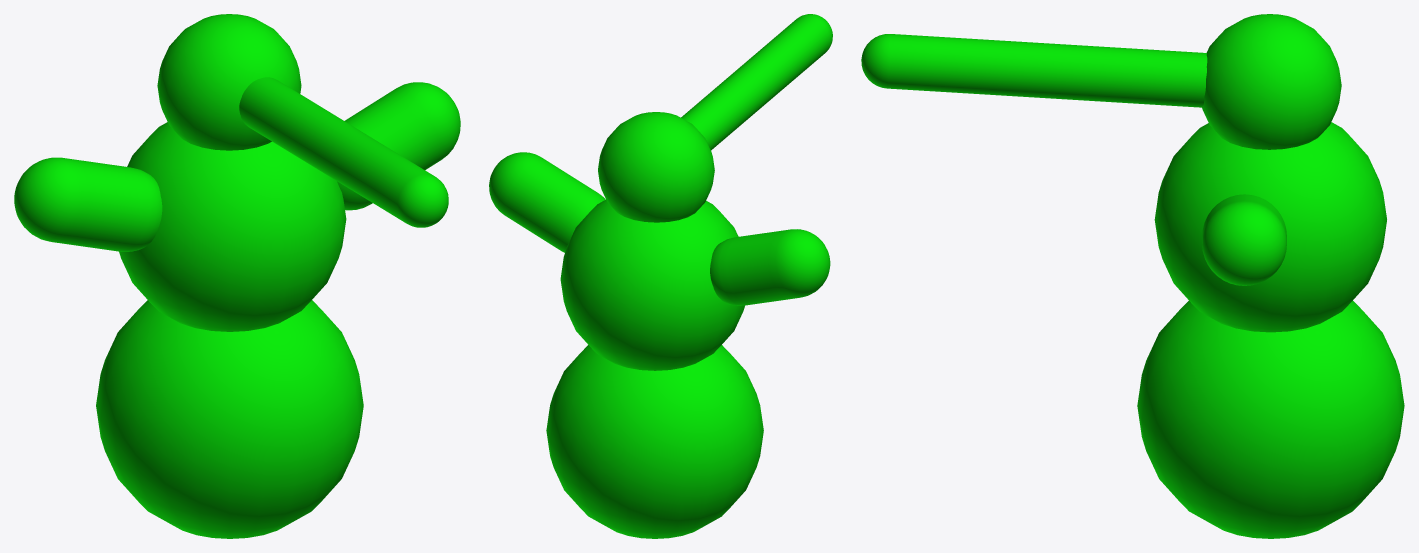
The model's file is player1_primitive.fbx.
The picture shows the model from 3 angles, left to right: view 1: azimuth 30°, elevation 25°; view 2: azimuth 150°, elevation 25°; view 3: azimuth 270°, elevation 25°; orthographic projection. The views are drawn at different scales.
Visible parts, largest first — view 1: Sphere_3, Sphere_2, Sphere, Capsule, Capsule_2_2, Capsule_2; view 2: Sphere_3, Sphere_2, Sphere, Capsule_2_2, Capsule, Capsule_2; view 3: Sphere_3, Sphere_2, Capsule, Sphere, Capsule_2.
Part boxes in pixels (bbox=[...]): Sphere_3: bbox=[96, 300, 363, 538]; Sphere_2: bbox=[119, 122, 346, 331]; Sphere: bbox=[157, 14, 301, 150]; Capsule: bbox=[239, 77, 448, 227]; Capsule_2_2: bbox=[14, 157, 162, 251]; Capsule_2: bbox=[337, 82, 460, 210]; Sphere_3: bbox=[546, 345, 763, 538]; Sphere_2: bbox=[560, 199, 744, 370]; Sphere: bbox=[598, 112, 714, 222]; Capsule_2_2: bbox=[710, 229, 830, 305]; Capsule: bbox=[681, 14, 832, 150]; Capsule_2: bbox=[489, 152, 605, 252]; Sphere_3: bbox=[1137, 301, 1404, 538]; Sphere_2: bbox=[1154, 122, 1386, 332]; Capsule: bbox=[861, 34, 1207, 107]; Sphere: bbox=[1202, 14, 1341, 149]; Capsule_2: bbox=[1202, 194, 1286, 285].
Bounding box in the file's own units: 184 × 212 × 206.
